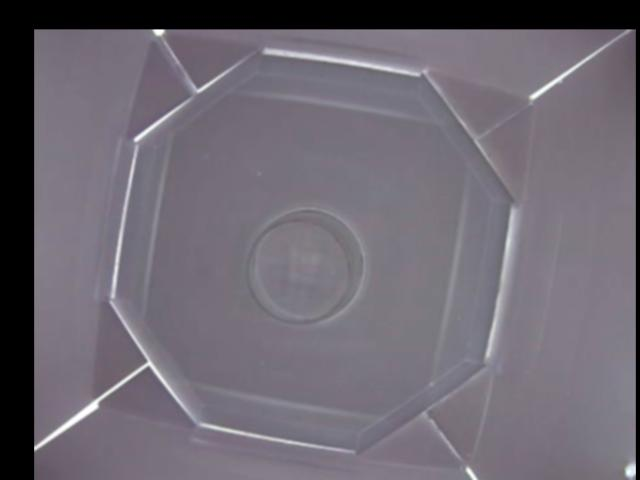Cup: (244, 205, 366, 326)
